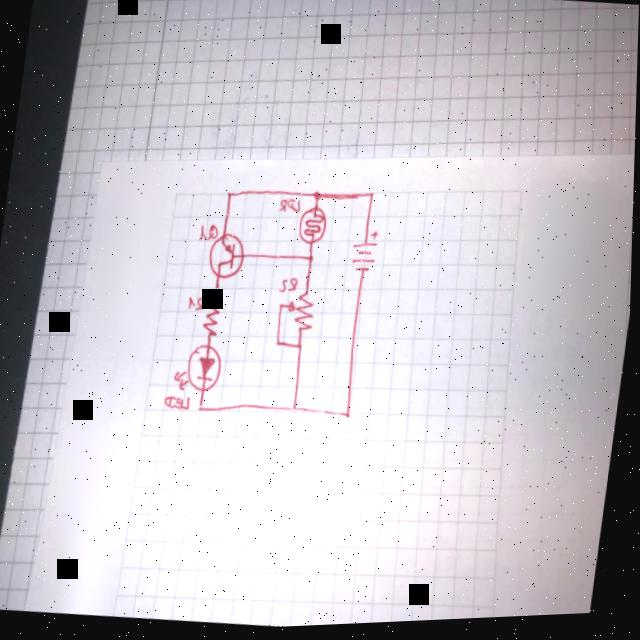diode: (173, 341, 227, 397)
junction: (366, 189, 378, 204), (311, 189, 323, 204), (223, 188, 234, 203), (307, 254, 318, 269), (197, 400, 207, 414), (277, 301, 287, 315), (295, 342, 305, 355), (345, 411, 354, 425), (276, 339, 285, 352), (292, 404, 301, 416)
resistor: (283, 287, 320, 338), (297, 205, 330, 249), (202, 299, 223, 339)
source: (349, 227, 382, 277)
text: (164, 392, 194, 412), (277, 195, 304, 216), (198, 221, 219, 246), (279, 275, 300, 296), (188, 294, 207, 312)
transistor: (206, 229, 250, 283)
